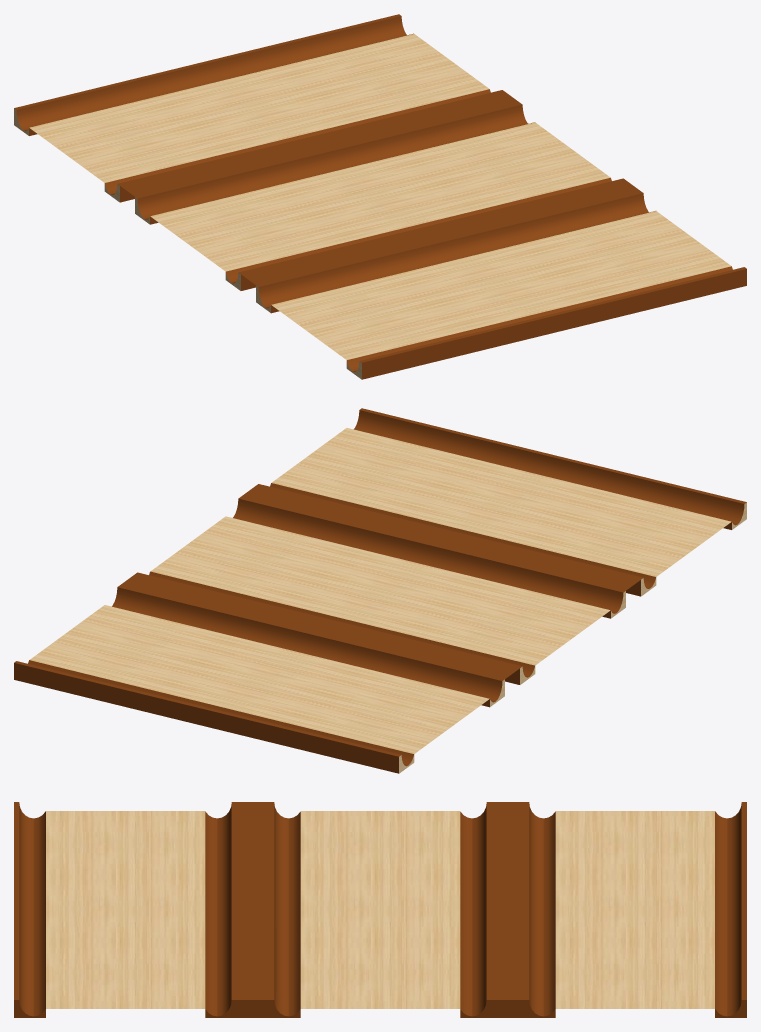
Rendered from mesaBoliche.obj.
3 views of the same model, one above another, from view 1: azimuth 30°, elevation 25°; view 2: azimuth 150°, elevation 25°; view 3: azimuth 270°, elevation 25° (orthographic). The views are drawn at different scales.
Visible parts, largest first — view 1: Tracks; view 2: Tracks; view 3: Tracks.
Boxes of the visible parts, x1,y1,x2,y2 form: Tracks: (14,14,746,379); Tracks: (14,408,746,773); Tracks: (14,802,746,1017).
Bounding box in the file's own units: 0.7357 × 0.031 × 1.15.
